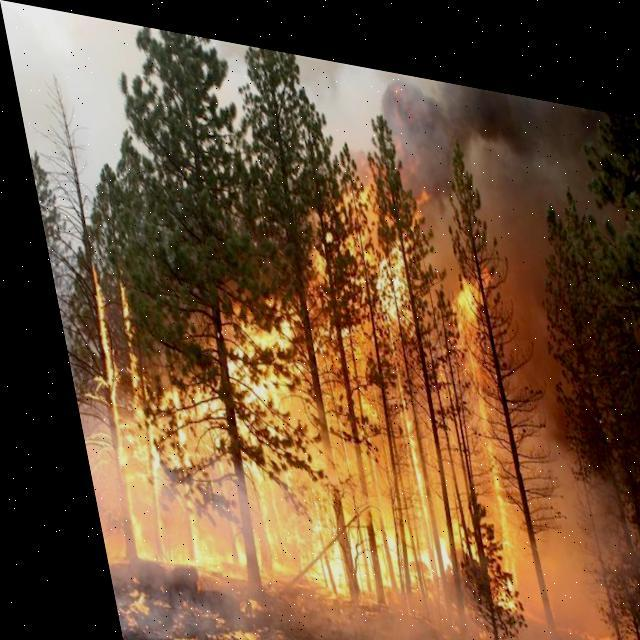Fire: (22, 78, 546, 639)
